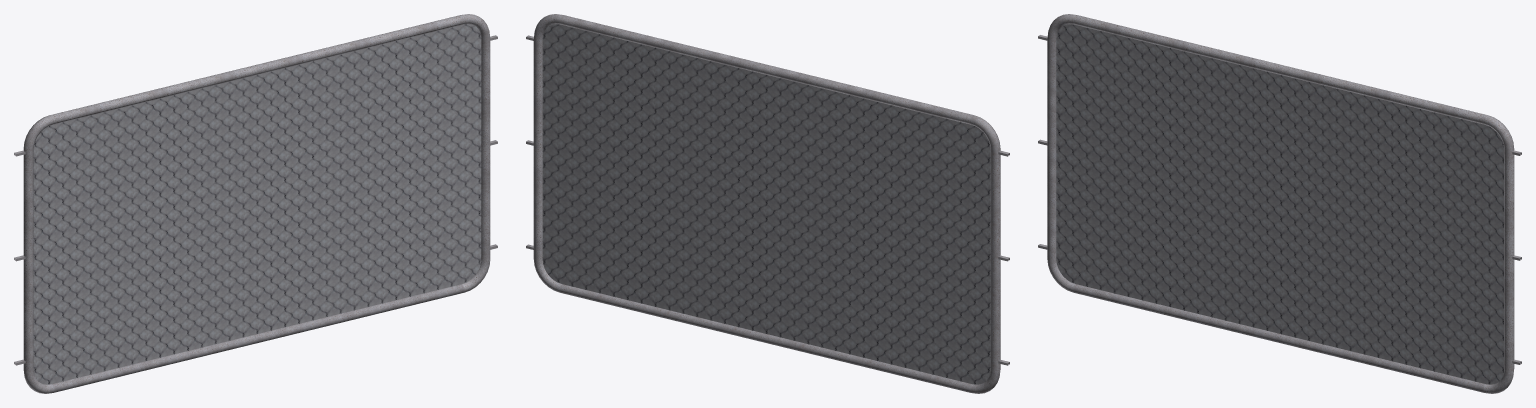
The model's file is SM_metal_fence_01.fbx.
3 renders of one model, left to right at view 1: azimuth 30°, elevation 25°; view 2: azimuth 150°, elevation 25°; view 3: azimuth 330°, elevation 25°, orthographic.
Visible parts, largest first — view 1: SM_metal_fence_01; view 2: SM_metal_fence_01; view 3: SM_metal_fence_01.
Boxes of the visible parts, x1,y1,x2,y2 form: SM_metal_fence_01: (14, 14, 497, 393); SM_metal_fence_01: (526, 14, 1009, 393); SM_metal_fence_01: (1038, 14, 1521, 393).
Size of the model in its own units: 373 by 6.82 by 206.
Materials: 2 (2 with a texture image).
